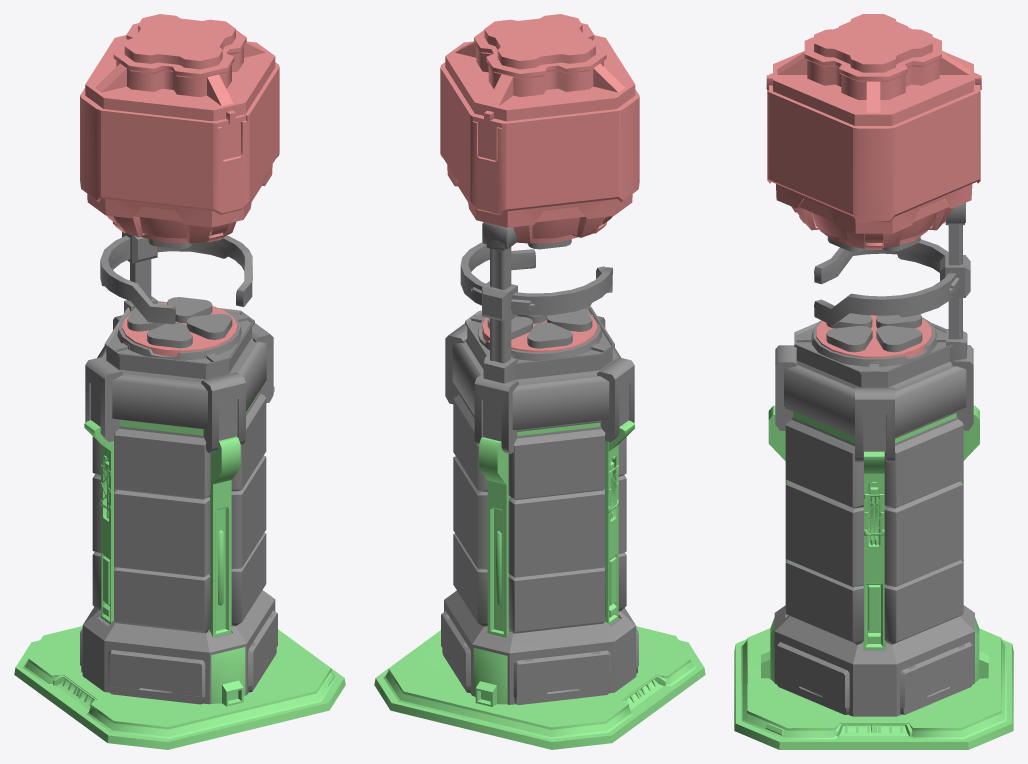
File: S_Envi_Fyz_Show_03a.gltf
The picture shows the model from 3 angles, left to right: view 1: azimuth 30°, elevation 25°; view 2: azimuth 150°, elevation 25°; view 3: azimuth 270°, elevation 25°; orthographic projection.
Parts seen in each view (by area): view 1: S_Envi_Fyz_Show_03a; view 2: S_Envi_Fyz_Show_03a; view 3: S_Envi_Fyz_Show_03a.
Boxes of the visible parts, x1,y1,x2,y2 form: S_Envi_Fyz_Show_03a: [14, 14, 345, 749]; S_Envi_Fyz_Show_03a: [374, 14, 705, 749]; S_Envi_Fyz_Show_03a: [734, 14, 1013, 749].
Bounding box in the file's own units: 0.4511 × 1.16 × 0.4511.
